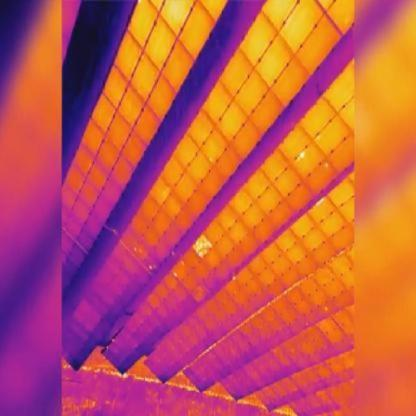anomaly: (191, 233, 212, 259)
